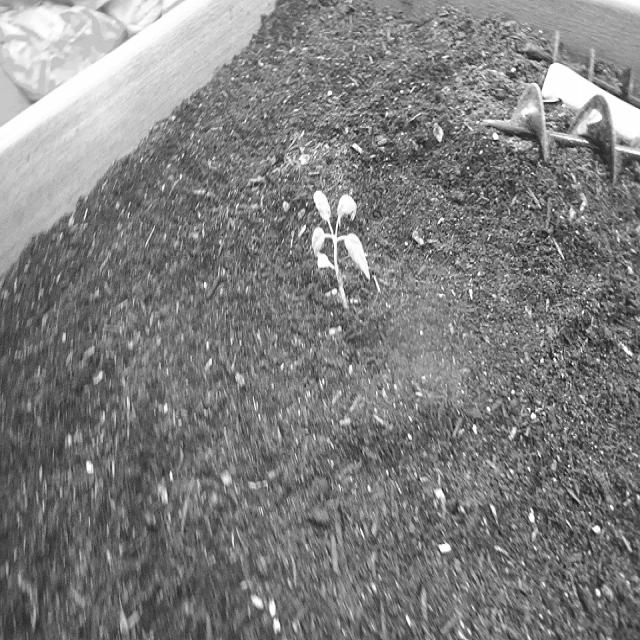Healthy: (306, 172, 376, 324)
